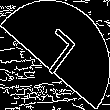L_SW: (29, 26, 81, 84)
